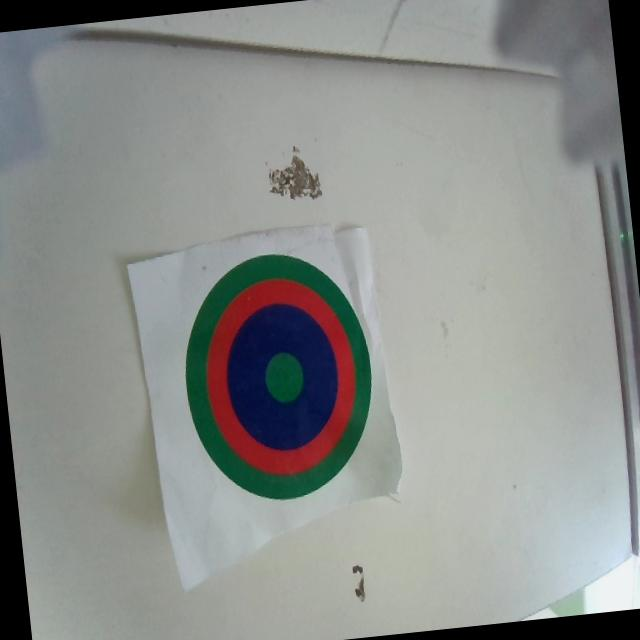cogn: (174, 244, 382, 506)
